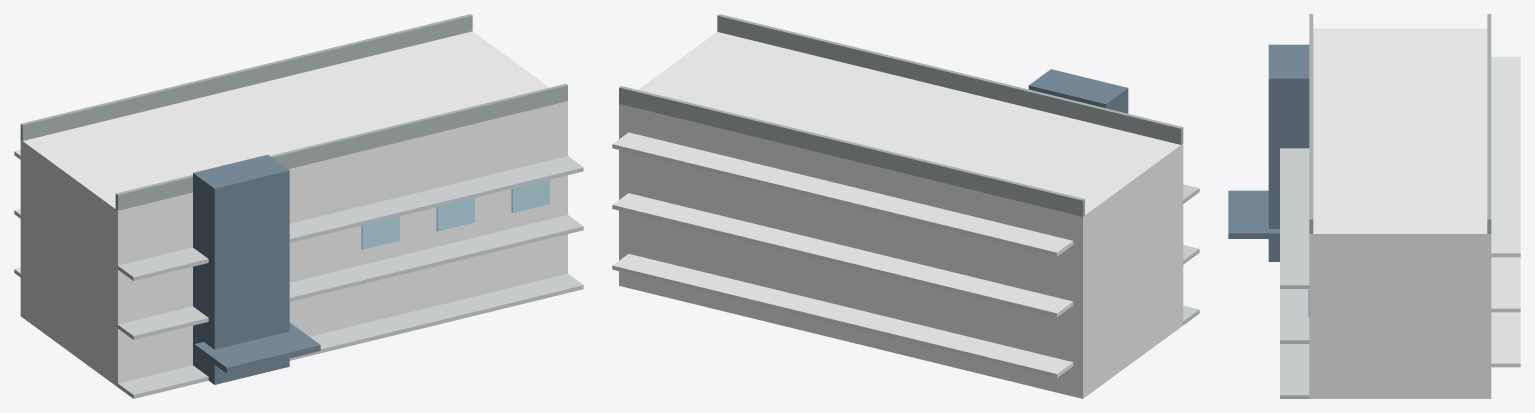
The model's file is mid_size_apartment.gltf.
3 renders of one model, left to right at view 1: azimuth 30°, elevation 25°; view 2: azimuth 150°, elevation 25°; view 3: azimuth 270°, elevation 25°, orthographic. The views are drawn at different scales.
Bounding box in the file's own units: 240 × 100 × 144.
